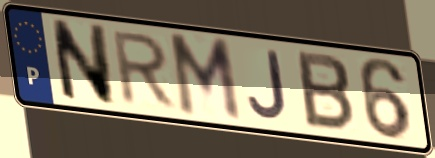6: (356, 56, 415, 143)
B: (294, 48, 357, 135)
J: (245, 48, 290, 123)
M: (165, 31, 246, 125)
N: (47, 17, 118, 109)
R: (111, 29, 180, 111)
